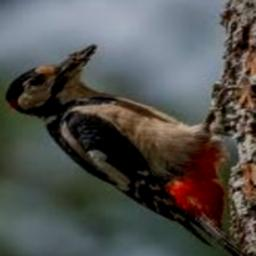Woodpecker: (6, 44, 256, 256)
